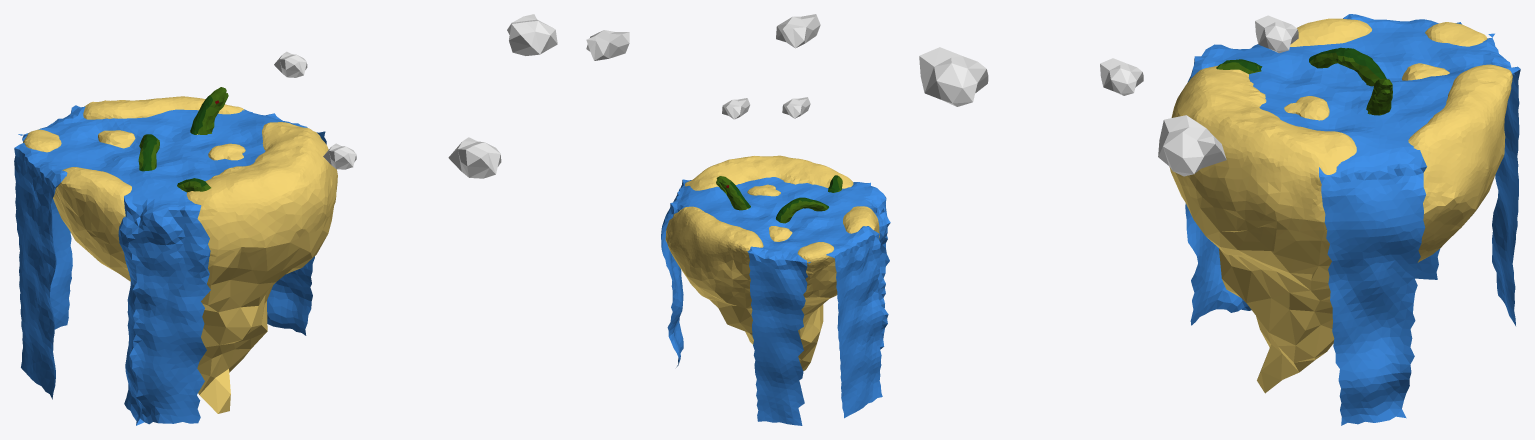
File: SandyIsland3.glb
3 views of the same model, side by side, from view 1: azimuth 30°, elevation 25°; view 2: azimuth 150°, elevation 25°; view 3: azimuth 270°, elevation 25° (orthographic). The views are drawn at different scales.
Parts seen in each view (by area): view 1: Plane.001, Icosphere, Wolke.002, Wolke, Wolke.001, Wolke.003; view 2: Plane.001, Icosphere, Wolke, Wolke.002, Wolke.001, Wolke.003; view 3: Icosphere, Plane.001, Wolke, Wolke.002, Wolke.001, Wolke.003.
Part boxes in pixels (bbox=[...]): Plane.001: bbox=[14, 105, 326, 425]; Icosphere: bbox=[23, 87, 337, 413]; Wolke.002: bbox=[507, 14, 557, 55]; Wolke: bbox=[448, 137, 501, 178]; Wolke.001: bbox=[323, 143, 356, 169]; Wolke.003: bbox=[274, 51, 307, 77]; Plane.001: bbox=[661, 177, 890, 425]; Icosphere: bbox=[665, 155, 879, 370]; Wolke: bbox=[776, 14, 820, 48]; Wolke.002: bbox=[586, 30, 629, 60]; Wolke.001: bbox=[782, 97, 810, 118]; Wolke.003: bbox=[722, 98, 750, 119]; Icosphere: bbox=[1169, 18, 1512, 393]; Plane.001: bbox=[1185, 14, 1520, 425]; Wolke: bbox=[919, 47, 988, 106]; Wolke.002: bbox=[1158, 115, 1226, 176]; Wolke.001: bbox=[1100, 58, 1143, 95]; Wolke.003: bbox=[1255, 15, 1298, 53].
Bounding box in the file's own units: 643 × 486 × 621.
